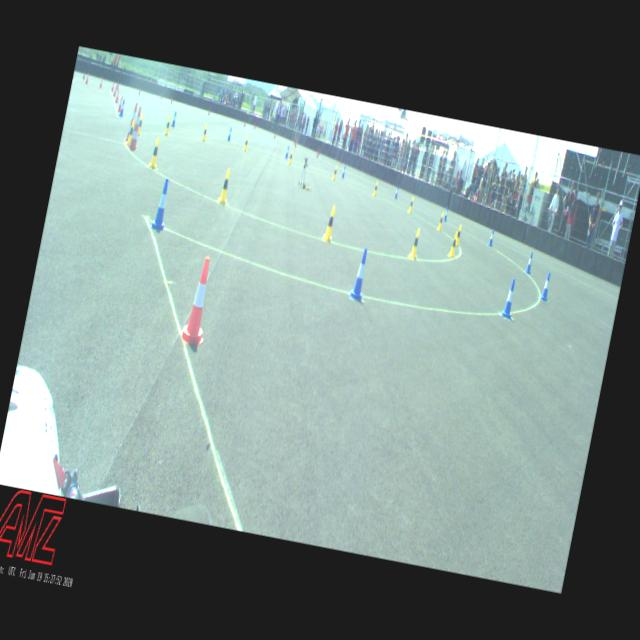blue_cone: (150, 178, 173, 231), (350, 247, 372, 302), (500, 278, 519, 320), (540, 272, 552, 302), (524, 252, 534, 274), (488, 228, 496, 247), (170, 111, 178, 127), (118, 100, 126, 116), (443, 206, 449, 222), (394, 185, 400, 199), (341, 166, 346, 178), (285, 146, 290, 158), (228, 128, 232, 141)
large_orange_cone: (128, 106, 144, 152), (125, 102, 139, 144)
orange_cone: (178, 255, 219, 347), (118, 95, 124, 112), (115, 90, 120, 102), (86, 72, 90, 84), (114, 85, 118, 97), (100, 77, 104, 88), (112, 82, 115, 92)
unknown_cone: (82, 71, 86, 80)
yellow_cone: (322, 204, 338, 243), (218, 168, 234, 206), (148, 137, 162, 170), (409, 228, 422, 260), (448, 231, 459, 257), (126, 119, 136, 146), (455, 224, 463, 247), (163, 116, 172, 136), (137, 114, 145, 136), (436, 211, 444, 231), (372, 180, 379, 197), (243, 136, 250, 152), (408, 196, 414, 214), (202, 125, 208, 142), (332, 164, 338, 180), (288, 150, 294, 165)
